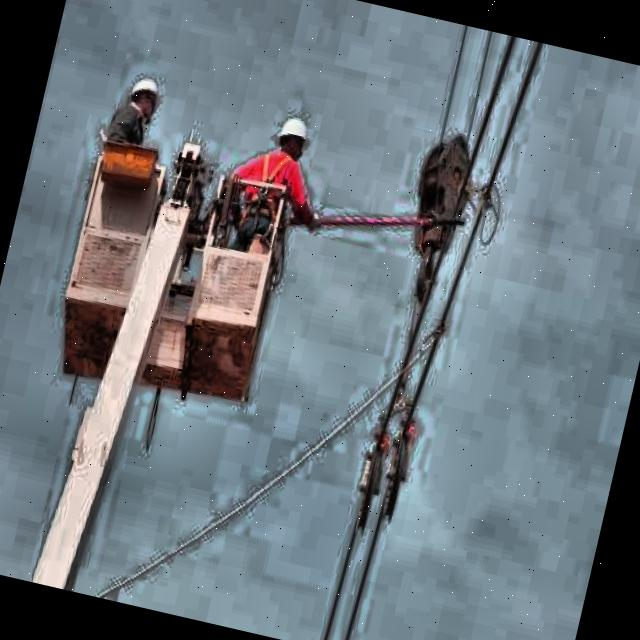helmet: (114, 67, 168, 131), (269, 110, 313, 165)
